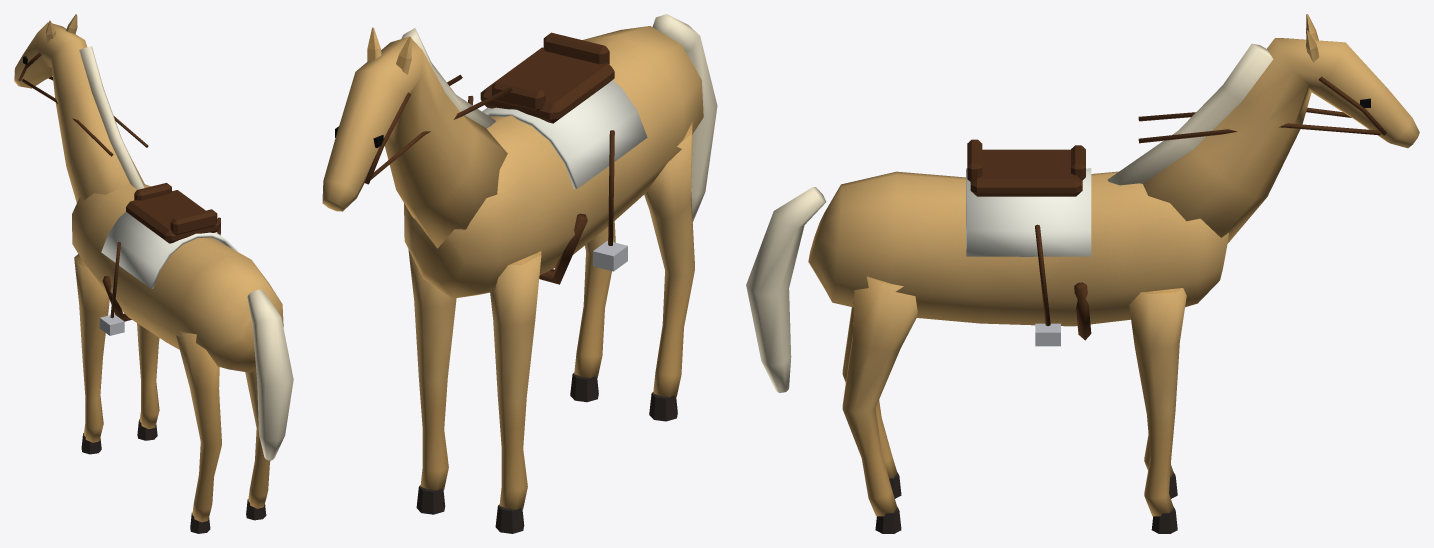
File: horse_palomino.glb
The picture shows the model from 3 angles, left to right: view 1: azimuth 30°, elevation 25°; view 2: azimuth 150°, elevation 25°; view 3: azimuth 270°, elevation 25°; orthographic projection. The views are drawn at different scales.
Parts seen in each view (by area): view 1: Body, Tack, Hair, Leg_HL, Leg_FL, Leg_FR, Leg_HR; view 2: Body, Tack, Leg_FL, Leg_HL, Leg_FR, Hair, Leg_HR; view 3: Body, Tack, Hair, Leg_HR, Leg_FR, Leg_HL.
Boxes of the visible parts, x1=… form: Body: x1=14, y1=14, x2=283, y2=372; Tack: x1=18, y1=52, x2=237, y2=335; Hair: x1=79, y1=46, x2=293, y2=460; Leg_HL: x1=176, y1=331, x2=221, y2=533; Leg_FL: x1=74, y1=254, x2=109, y2=454; Leg_FR: x1=137, y1=323, x2=159, y2=440; Leg_HR: x1=245, y1=369, x2=270, y2=520; Body: x1=322, y1=26, x2=703, y2=298; Tack: x1=364, y1=32, x2=647, y2=284; Leg_FL: x1=490, y1=251, x2=541, y2=533; Leg_HL: x1=644, y1=122, x2=694, y2=421; Leg_FR: x1=408, y1=249, x2=456, y2=514; Hair: x1=401, y1=14, x2=717, y2=222; Leg_HR: x1=570, y1=221, x2=615, y2=402; Body: x1=808, y1=14, x2=1419, y2=326; Tack: x1=966, y1=76, x2=1386, y2=346; Hair: x1=746, y1=43, x2=1273, y2=392; Leg_HR: x1=842, y1=276, x2=917, y2=533; Leg_FR: x1=1129, y1=288, x2=1186, y2=533; Leg_HL: x1=842, y1=307, x2=901, y2=498.
Bounding box in the file's own units: 0.82 × 2.5 × 3.12.
Materials: 8 (2 with a texture image).
